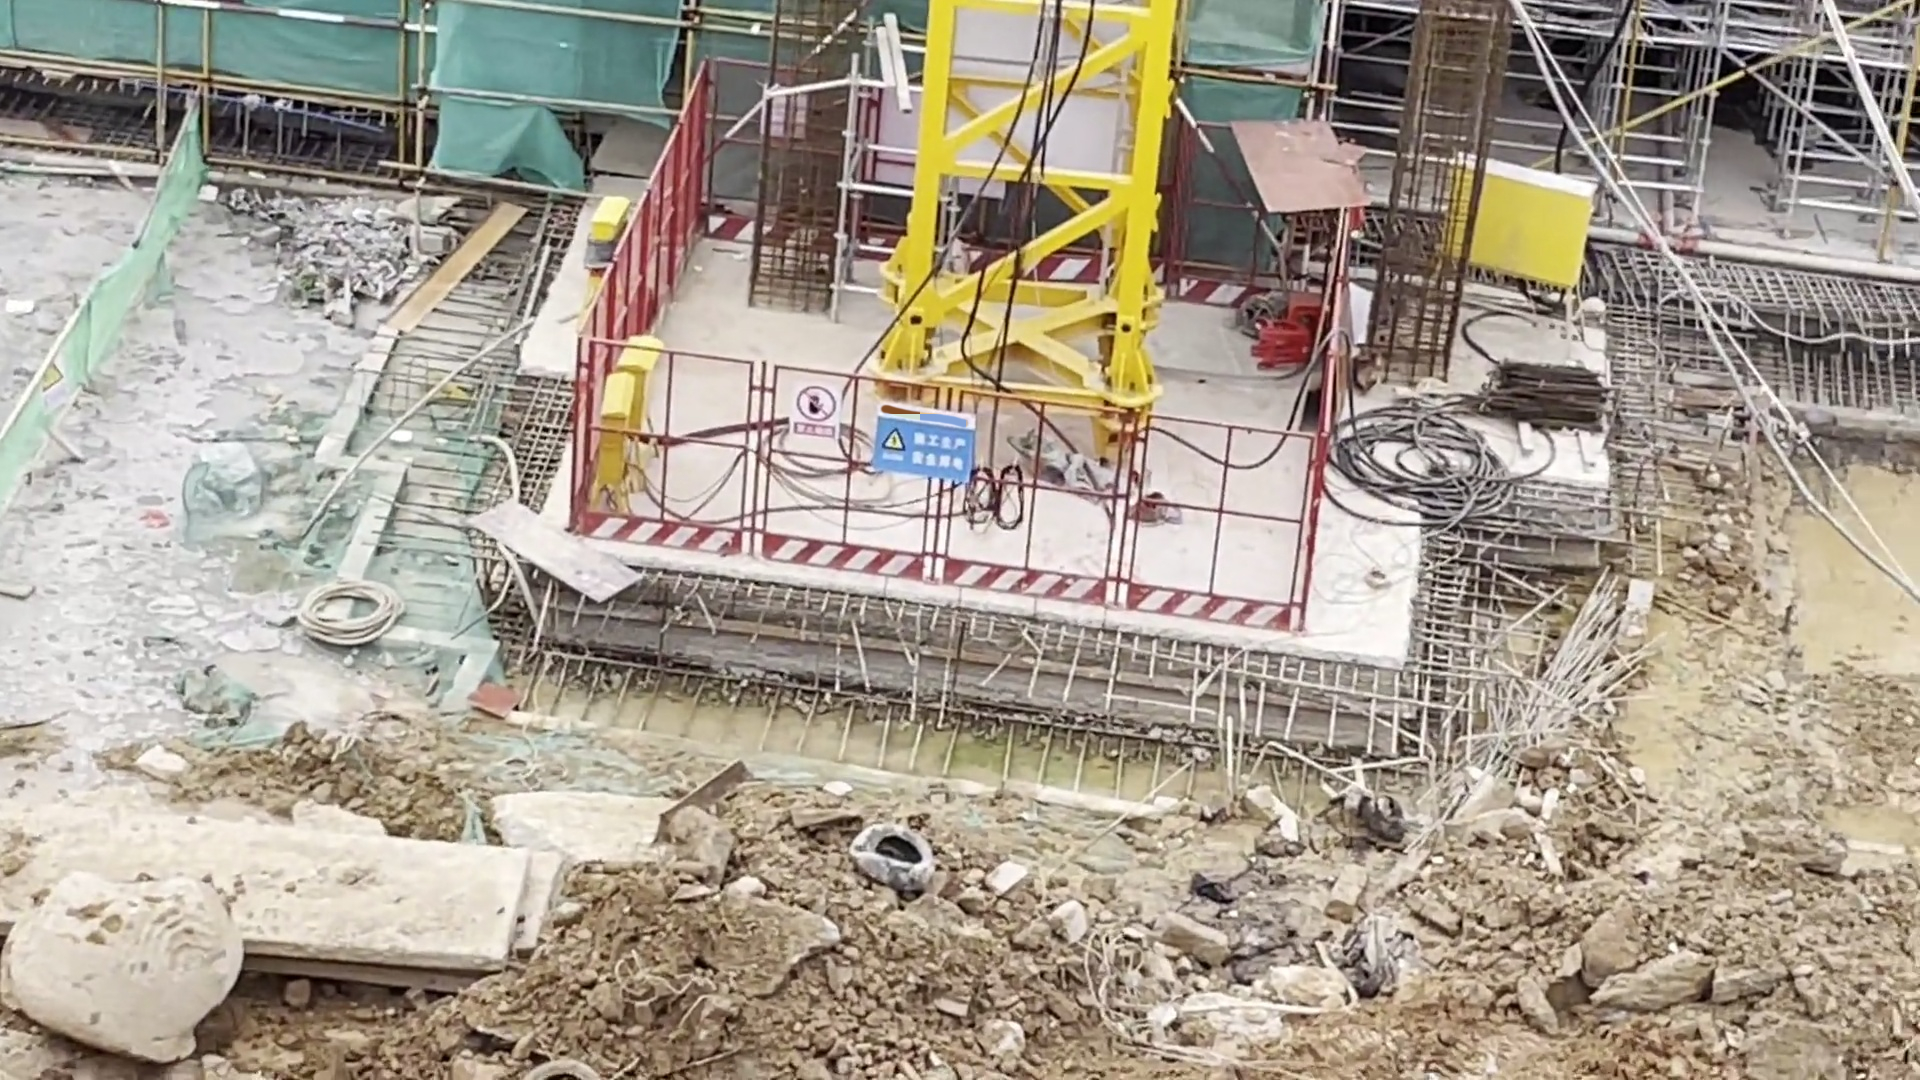ebox: (1447, 152, 1592, 309), (603, 339, 663, 489), (583, 190, 626, 274)
fence: (564, 73, 712, 514), (1117, 406, 1317, 636), (752, 360, 928, 585), (940, 382, 1113, 611), (579, 342, 744, 564)
slogan: (873, 406, 975, 475), (793, 386, 839, 436), (37, 365, 69, 402)
